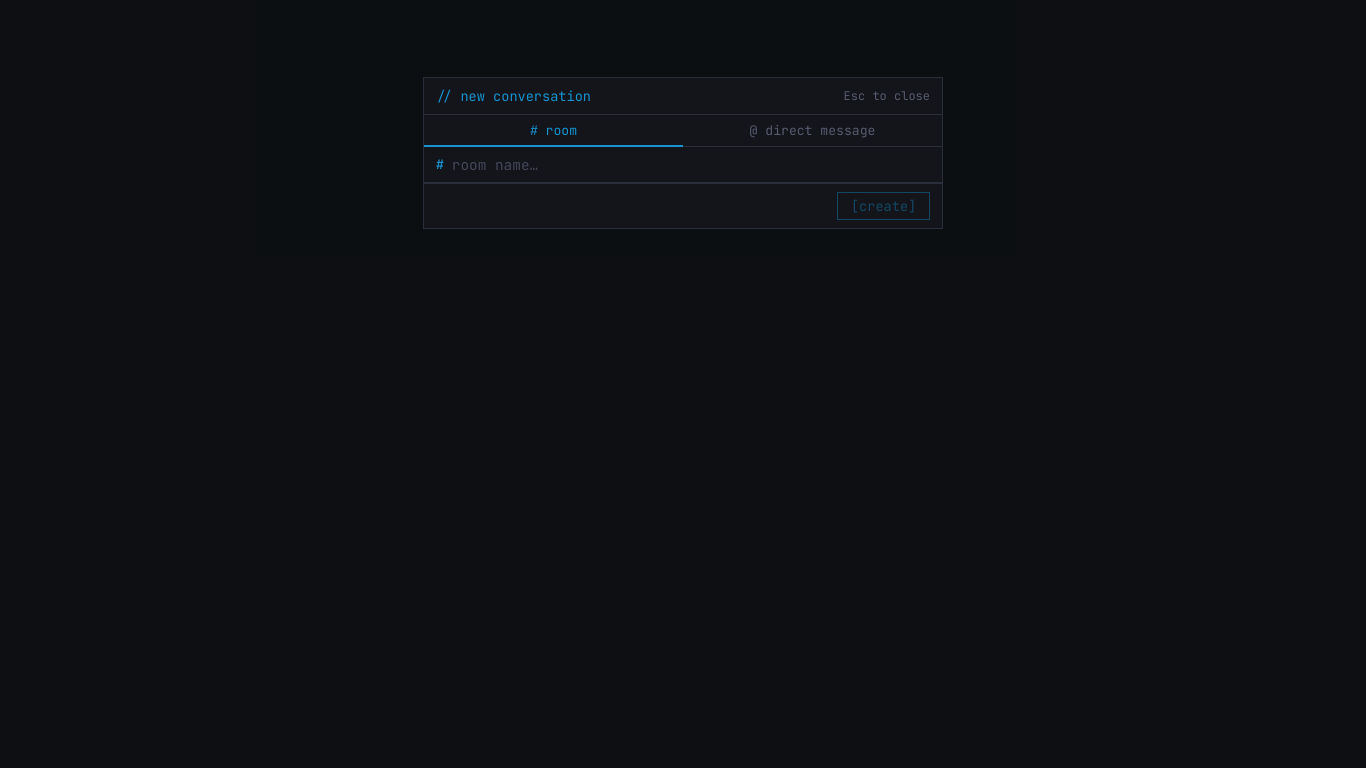
Test: NewConversationDialog › shows user:server placeholder in DM mode
Click the tab "@ direct message": [812, 131] box [683,115,942,146]
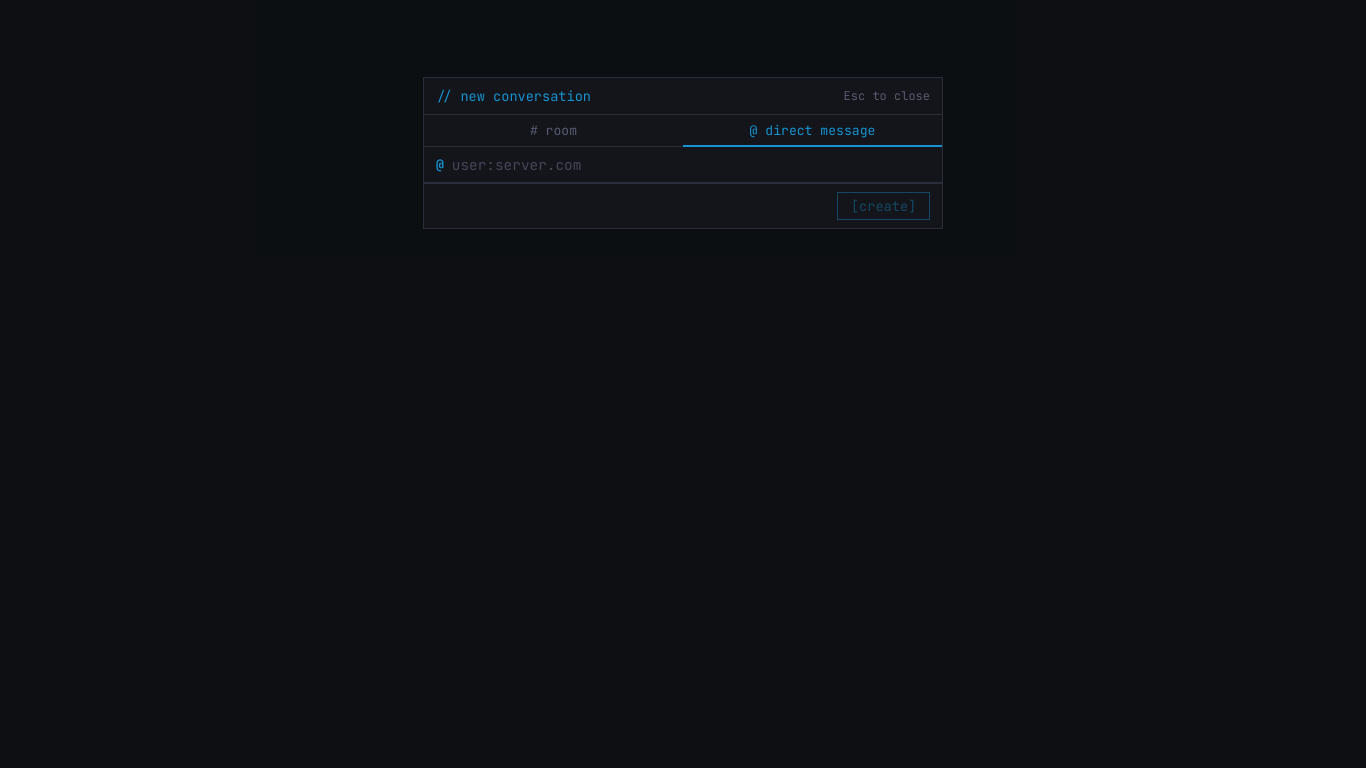
Expected: the field with placeholder "user:server.com" is shown, [452,155,930,174]
